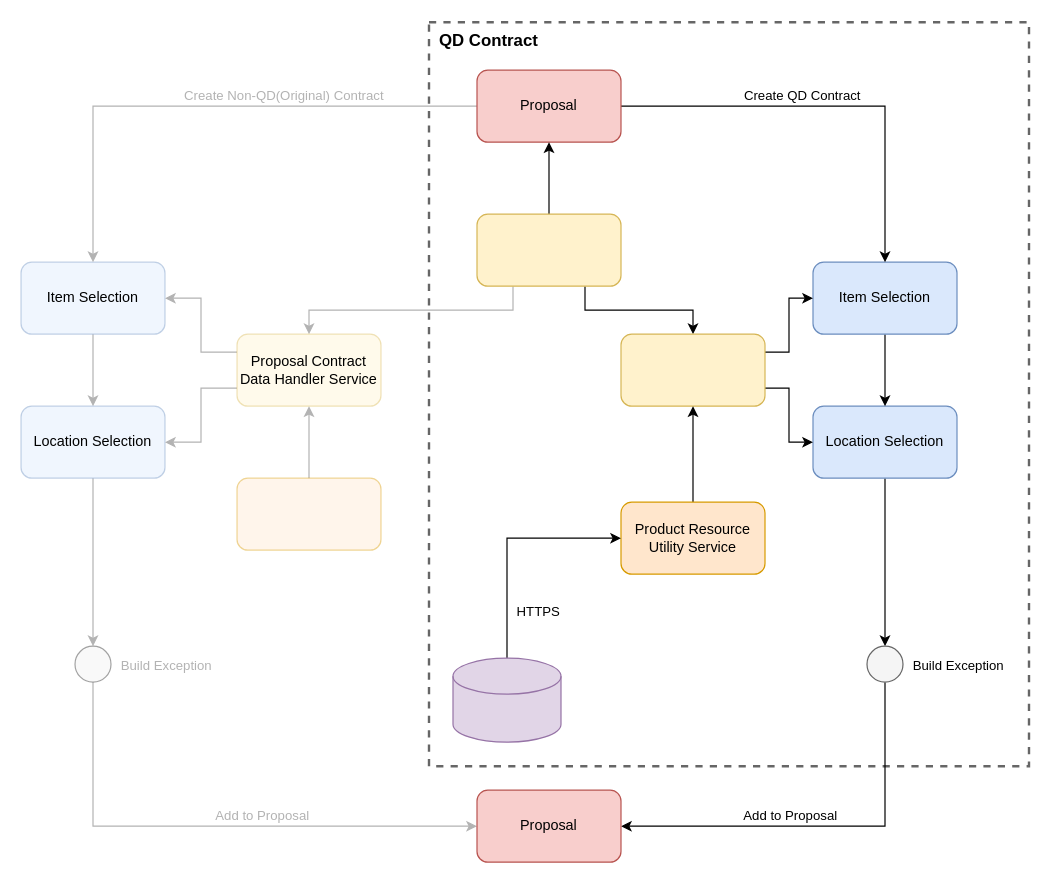
The diagram is 1051 pixels wide and 883 high, and some of its shapes have lost their labels. The centre of each missing label's shape, as x and y in pixels:
"Proposal Data Handler Service" belongs at pixel 548 249.
"Proposal Util Service" belongs at pixel 308 513.
"QD Contract Data Handler Service" belongs at pixel 692 369.
"Remote Product Information" belongs at pixel 506 699.
